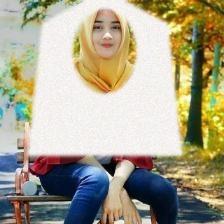Mukena: (27, 0, 182, 155)
